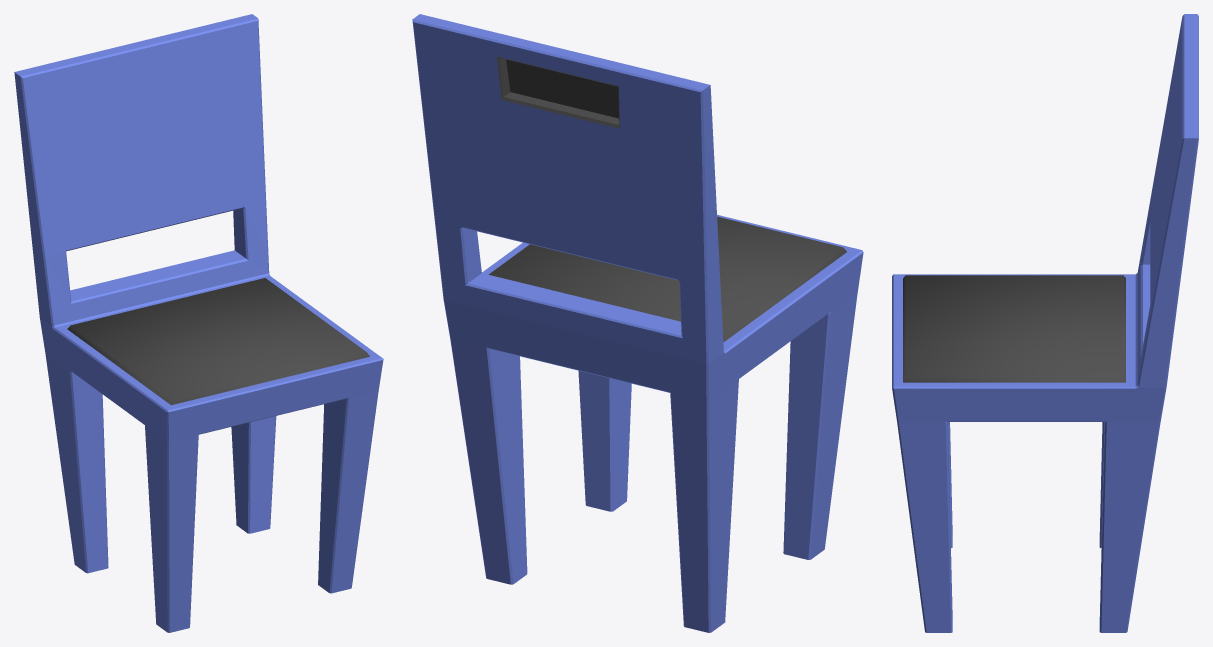
The model's file is Chair_Bl_01.FBX.
3 renders of one model, left to right at view 1: azimuth 30°, elevation 25°; view 2: azimuth 150°, elevation 25°; view 3: azimuth 270°, elevation 25°, orthographic. The views are drawn at different scales.
Visible parts, largest first — view 1: Chair_Bl_01; view 2: Chair_Bl_01; view 3: Chair_Bl_01.
Part boxes in pixels (x1,y1,x2,y2): Chair_Bl_01: [14, 14, 383, 632]; Chair_Bl_01: [412, 14, 863, 632]; Chair_Bl_01: [892, 14, 1198, 632].
Bounding box in the file's own units: 0.5255 × 1 × 0.548.
